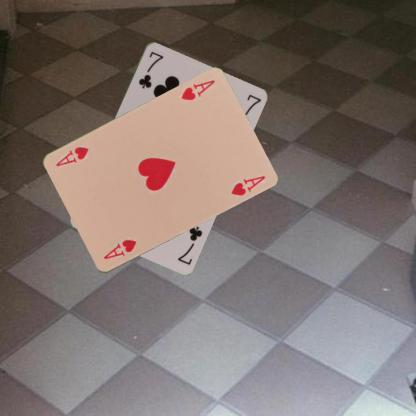7c: (174, 223, 204, 266), (135, 48, 165, 90)
Ah: (100, 235, 138, 261), (178, 78, 216, 102)
